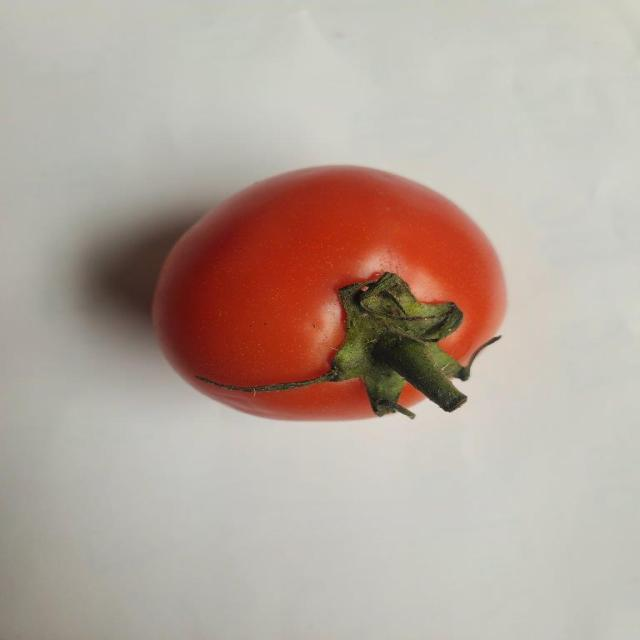Tomato: (147, 160, 510, 427)
